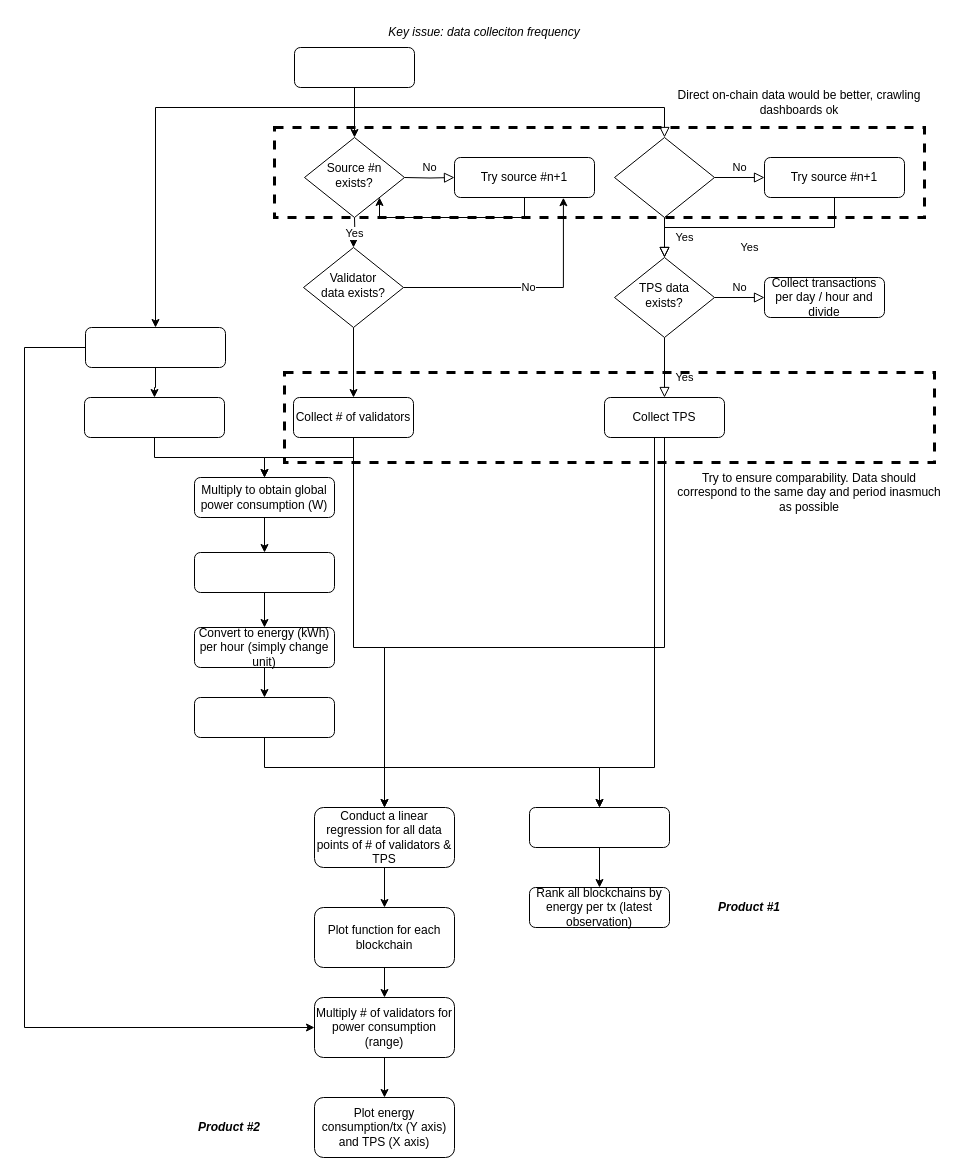
The diagram is 962 pixels wide and 1175 high, and some of its shapes have lost their labels. Here are the shapes that lost their labels. From the top down, the centre of each, then its label:
At point 354,67: "Begin collection of blockchain #N".
At point 664,177: "Source #n working?".
At point 155,347: "Take individual node power consumption data from local sources (W)".
At point 154,417: "Power consumption is a range, hence make an average of min and max".
At point 264,572: "Divide by 1,000 to obtain global power consumption (kW)".
At point 264,717: "Convert to kWh per second (divide by 3,600)".
At point 599,827: "Divide energy per second by TPS to obtain energy per transaction".
